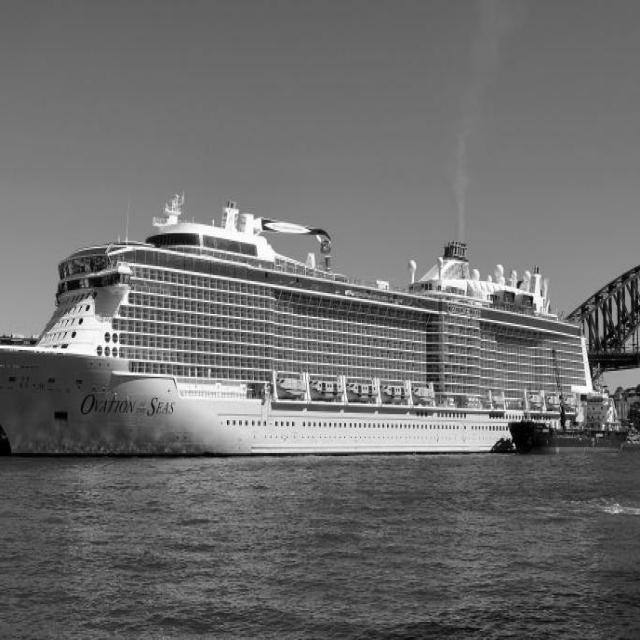cruises: (1, 176, 621, 466)
